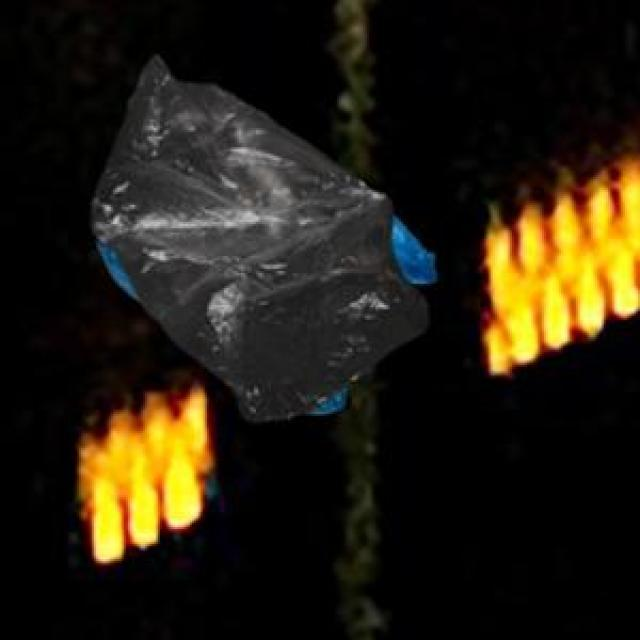Vinyl: (92, 56, 428, 421)
